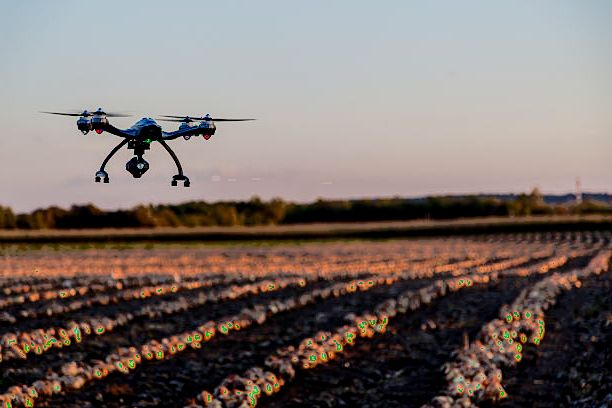Drone: (35, 106, 255, 190)
